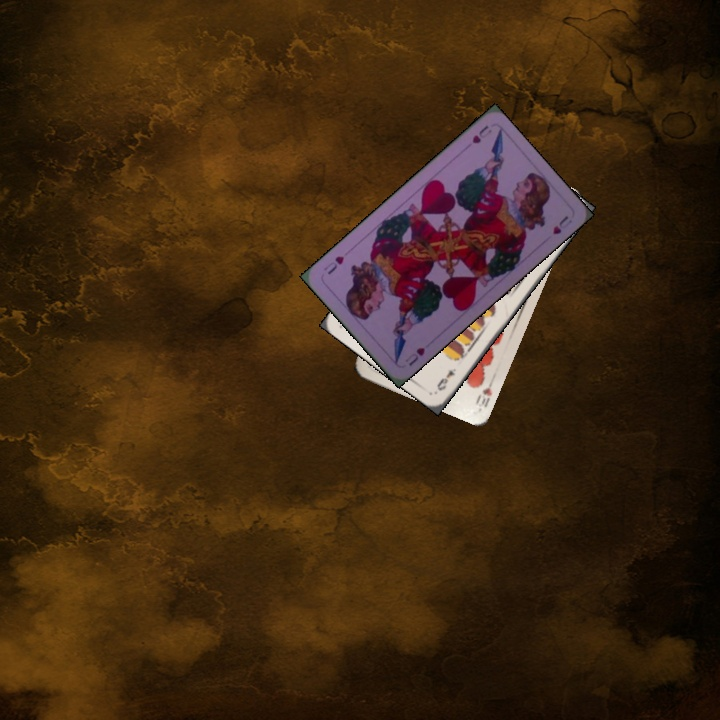E9: (433, 364, 459, 394)
H10: (471, 373, 497, 412)
HU: (401, 343, 427, 369), (468, 121, 494, 146)
